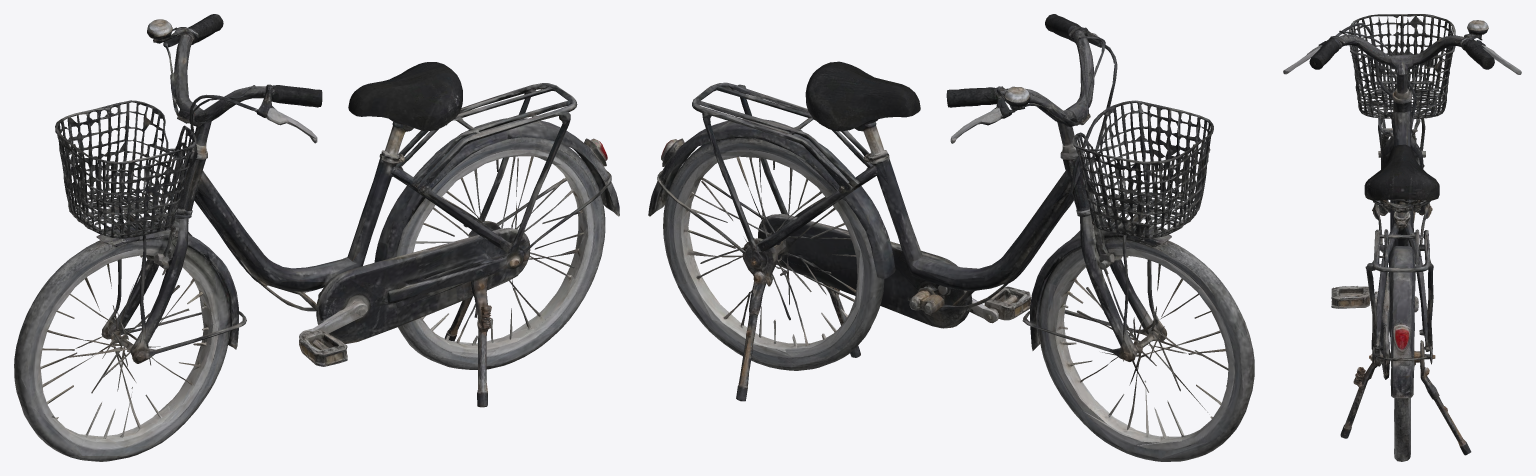
The model's file is w4bicycle.glb.
The picture shows the model from 3 angles, left to right: view 1: azimuth 30°, elevation 25°; view 2: azimuth 150°, elevation 25°; view 3: azimuth 270°, elevation 25°; orthographic projection. The views are drawn at different scales.
Visible parts, largest first — view 1: output_unwrapped; view 2: output_unwrapped; view 3: output_unwrapped.
Boxes of the visible parts, x1,y1,x2,y2 form: output_unwrapped: (14, 14, 619, 461); output_unwrapped: (648, 14, 1254, 461); output_unwrapped: (1283, 14, 1521, 461).
Size of the model in its own units: 1.7 by 1.05 by 0.71.
1 material, 1 textured.
